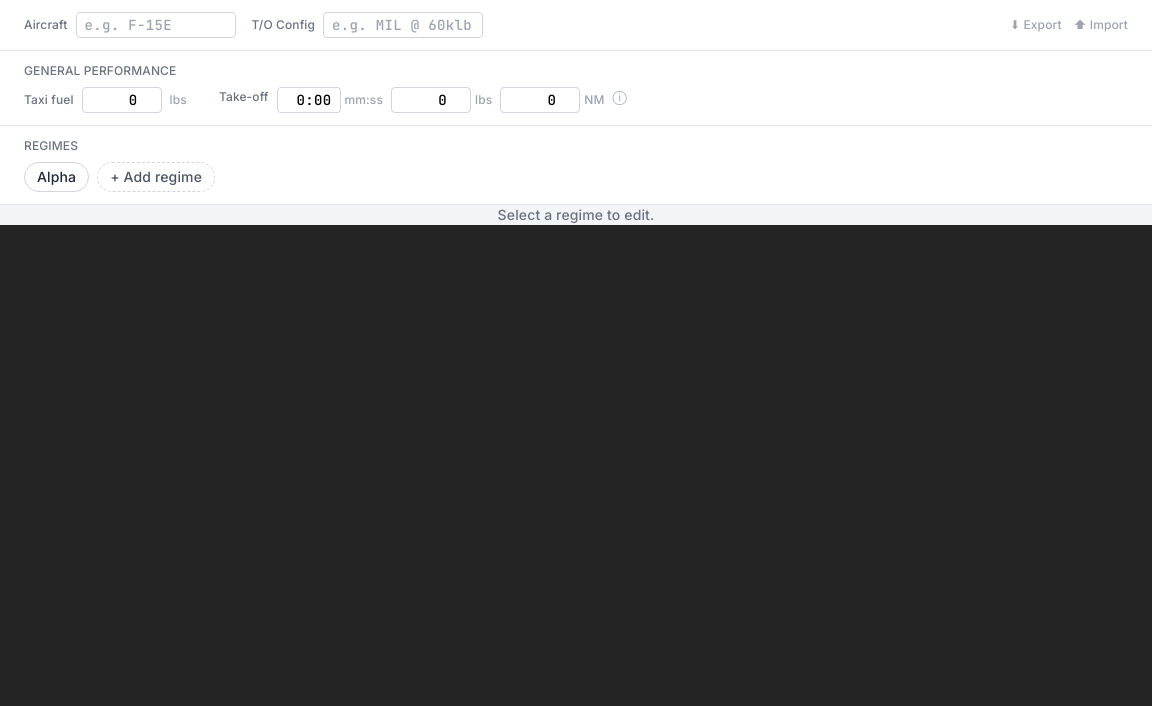
Test case: PerformancePage › RegimeEditor › all-or-nothing validation: partial climb shows error
Step 1. Click the button "Alpha" → (57, 177), box [24,162,89,192]
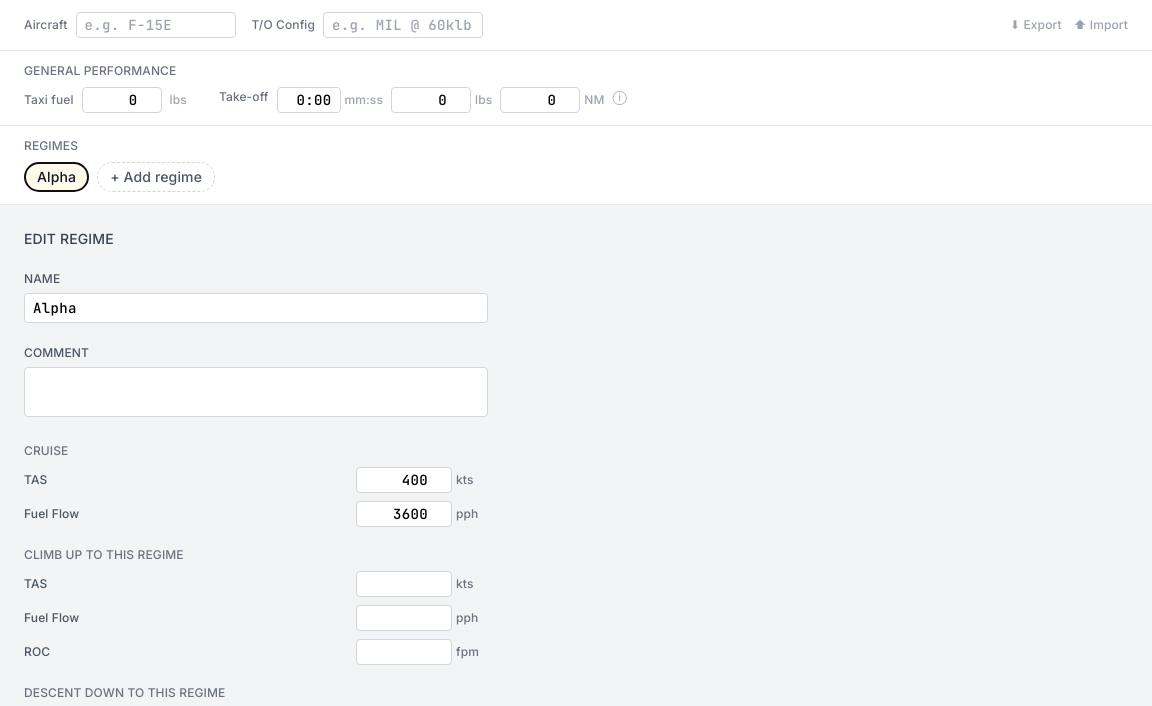
Step 2. Type "300" into the 6th number field → (404, 584), box [356,571,452,597]
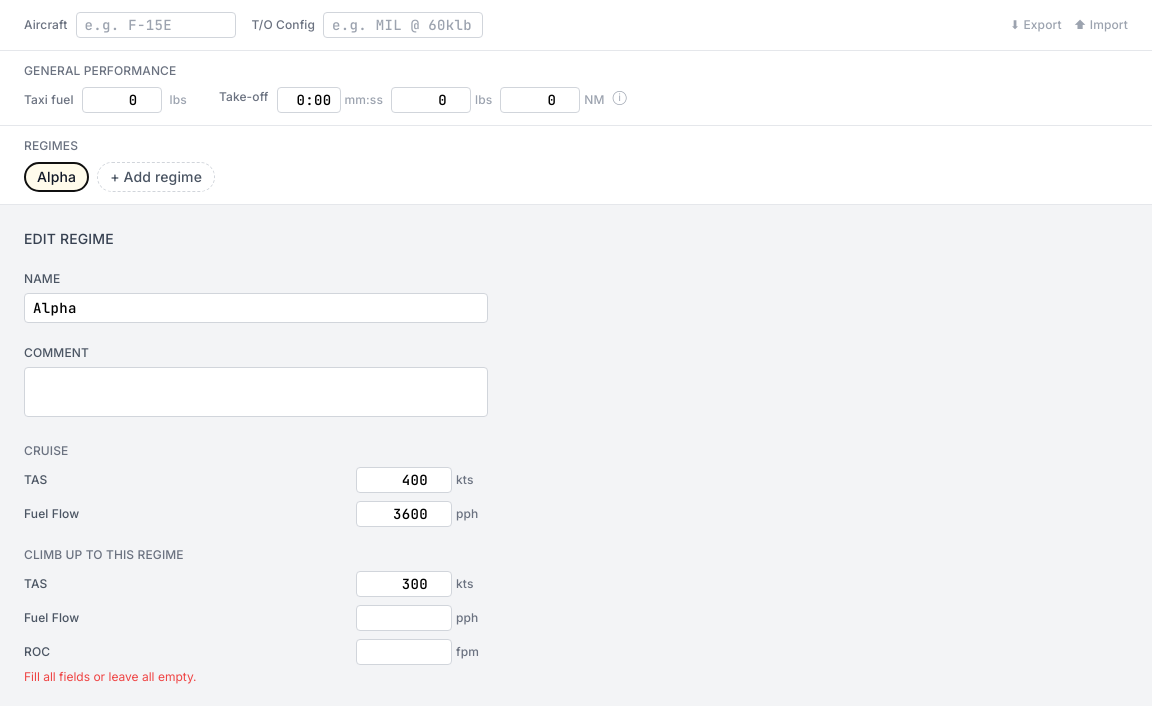
Expected: the text "Fill all fields or leave all empty." is shown, [24,669,197,684]
